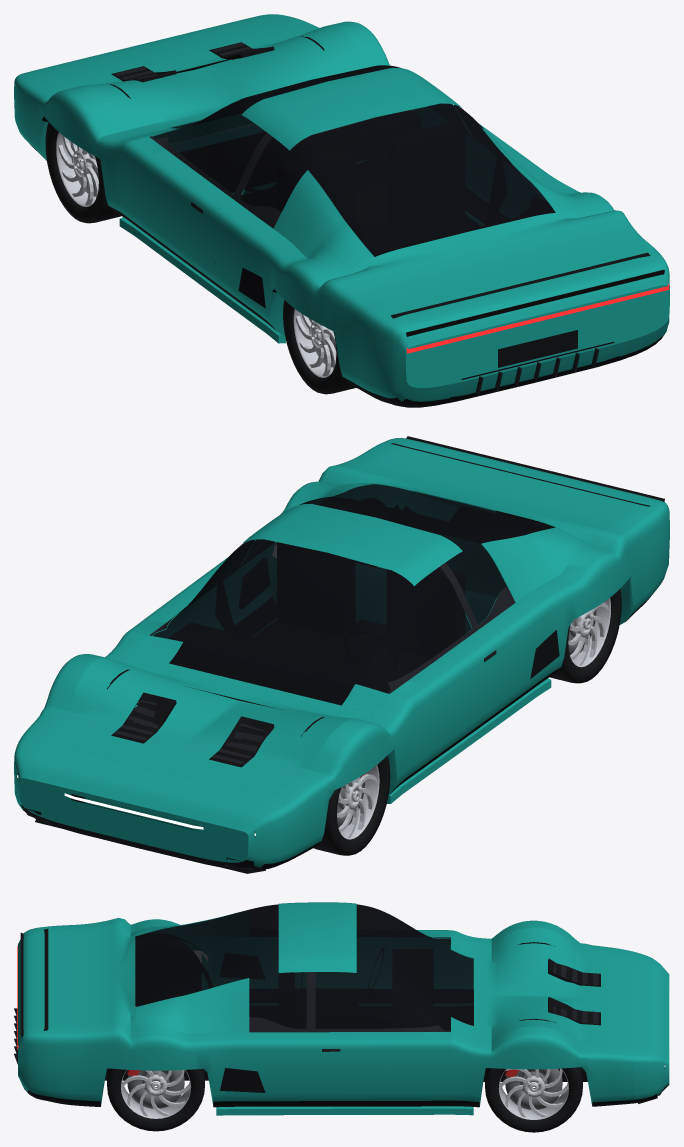
3 views of the same model, one above another, from view 1: azimuth 30°, elevation 25°; view 2: azimuth 150°, elevation 25°; view 3: azimuth 270°, elevation 25° (orthographic). The views are drawn at different scales.
Visible parts, largest first — view 1: body, glass, hood, bumper_rear, bumper_front, wheel_FL, wheel_RL, interior_low, spoiler, skirts, lights_rear; view 2: body, glass, hood, bumper_front, wheel_FL, bumper_rear, wheel_RL, interior_low, skirts, spoiler; view 3: body, glass, hood, bumper_front, bumper_rear, wheel_FR, wheel_RR, skirts, brake_FR, brake_RR, spoiler, interior_low.
Part boxes in pixels (bbox=[...]): body: bbox=[18, 16, 659, 403]; glass: bbox=[153, 65, 554, 256]; hood: bbox=[43, 20, 364, 135]; bumper_rear: bbox=[376, 252, 669, 407]; bumper_front: bbox=[14, 14, 669, 388]; wheel_FL: bbox=[45, 122, 120, 223]; wheel_RL: bbox=[283, 300, 356, 394]; interior_low: bbox=[179, 110, 464, 251]; spoiler: bbox=[391, 252, 664, 336]; skirts: bbox=[119, 213, 481, 343]; lights_rear: bbox=[406, 284, 669, 353]; body: bbox=[19, 443, 662, 861]; glass: bbox=[153, 484, 553, 705]; hood: bbox=[42, 655, 375, 798]; bumper_front: bbox=[14, 491, 496, 873]; wheel_FL: bbox=[313, 756, 390, 855]; bumper_rear: bbox=[378, 438, 669, 585]; wheel_RL: bbox=[550, 589, 621, 683]; interior_low: bbox=[169, 542, 465, 703]; skirts: bbox=[386, 678, 551, 803]; spoiler: bbox=[391, 436, 664, 506]; body: bbox=[47, 902, 633, 1107]; glass: bbox=[135, 904, 473, 1030]; hood: bbox=[474, 927, 633, 1048]; bumper_front: bbox=[633, 952, 669, 1103]; bumper_rear: bbox=[14, 926, 47, 1100]; wheel_FR: bbox=[485, 1067, 582, 1132]; wheel_RR: bbox=[107, 1069, 204, 1131]; skirts: bbox=[216, 1004, 473, 1115]; brake_FR: bbox=[505, 1068, 562, 1109]; brake_RR: bbox=[127, 1070, 184, 1108]; spoiler: bbox=[20, 929, 48, 1037]; interior_low: bbox=[279, 949, 432, 1027].
Size of what is drawn, in the model's own units: 2.09 by 1.2 by 4.76.
